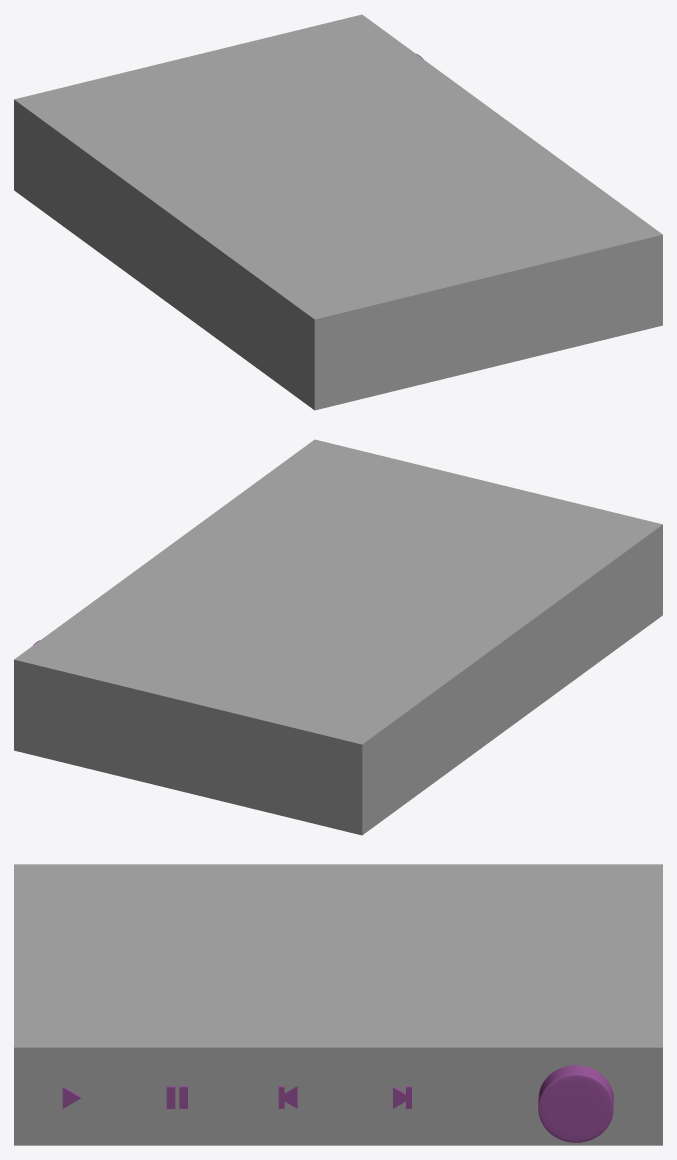
Rendered from stereo.fbx.
The picture shows the model from 3 angles, top to bottom: view 1: azimuth 30°, elevation 25°; view 2: azimuth 150°, elevation 25°; view 3: azimuth 270°, elevation 25°; orthographic projection. The views are drawn at different scales.
Parts seen in each view (by area): view 1: body; view 2: body; view 3: body, volume, pause.
Part boxes in pixels (box(x1,y1,x2,y2)): body: box(14, 14, 662, 410); body: box(14, 439, 662, 835); body: box(14, 864, 662, 1145); volume: box(538, 1065, 613, 1142); pause: box(166, 1086, 187, 1108).
Bounding box in the file's own units: 0.3211 × 0.0761 × 0.456.
